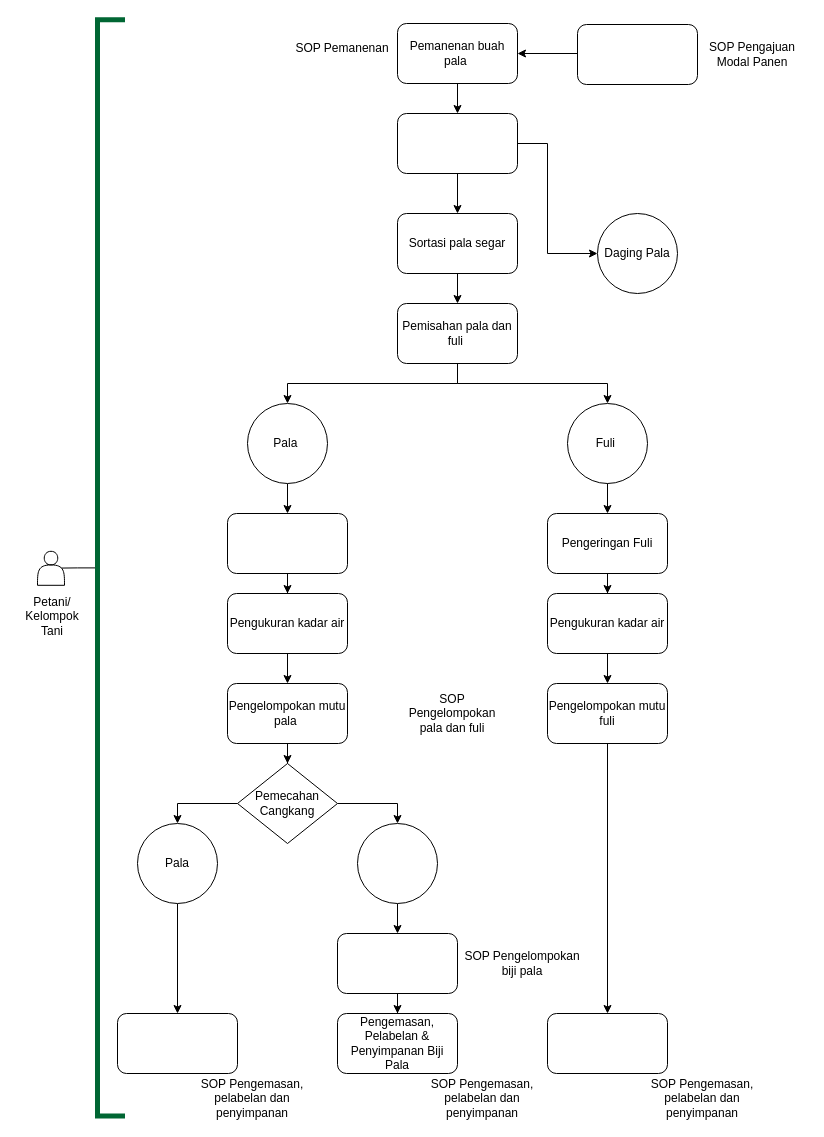
Image size: 824x1137. Some labels were removed from this diagram. Each missing label, with the centre of its shape:
"Biji Pala" goes at [397,863].
"Pemisahan Daging buah pala" goes at [457,143].
"Pengajuan Modal Panen" goes at [637,54].
"Pengelompokan mutu biji pala" goes at [397,963].
"Pengemasan, Pelabelan & Penyimpanan fuli" goes at [607,1043].
"Pengemasan, Pelabelan & Penyimpanan Pala" goes at [177,1043].
"Pengeringan Pala" goes at [287,543].
